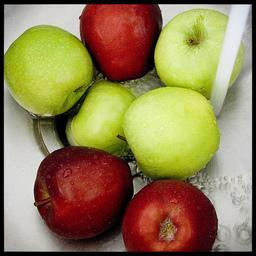apple: (33, 147, 133, 241), (122, 89, 220, 178), (4, 25, 92, 116), (154, 9, 243, 89), (123, 181, 221, 251), (80, 4, 161, 83), (66, 83, 139, 160)
